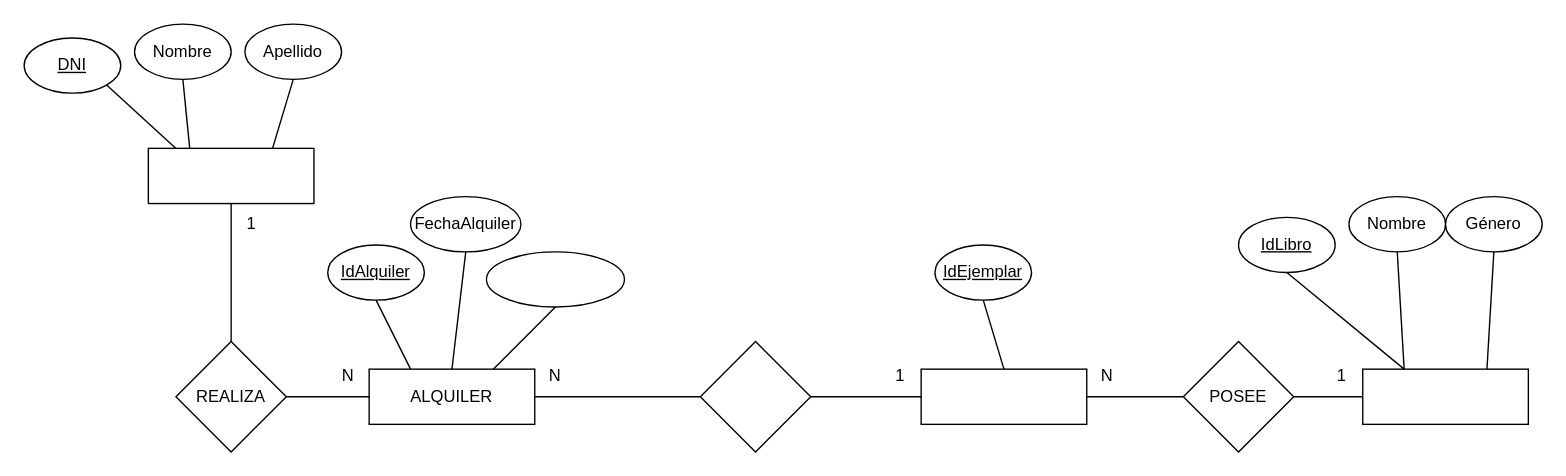
Image size: 1566x476. Some labels were removed from this diagram. Each missing label, with the box of its shape:
EJEMPLAR: (920, 368, 1087, 424)
FechaDevolución: (485, 250, 624, 307)
LIBRO: (1361, 368, 1528, 424)
PERSONA: (147, 147, 314, 204)
SOBRE: (699, 340, 811, 452)
